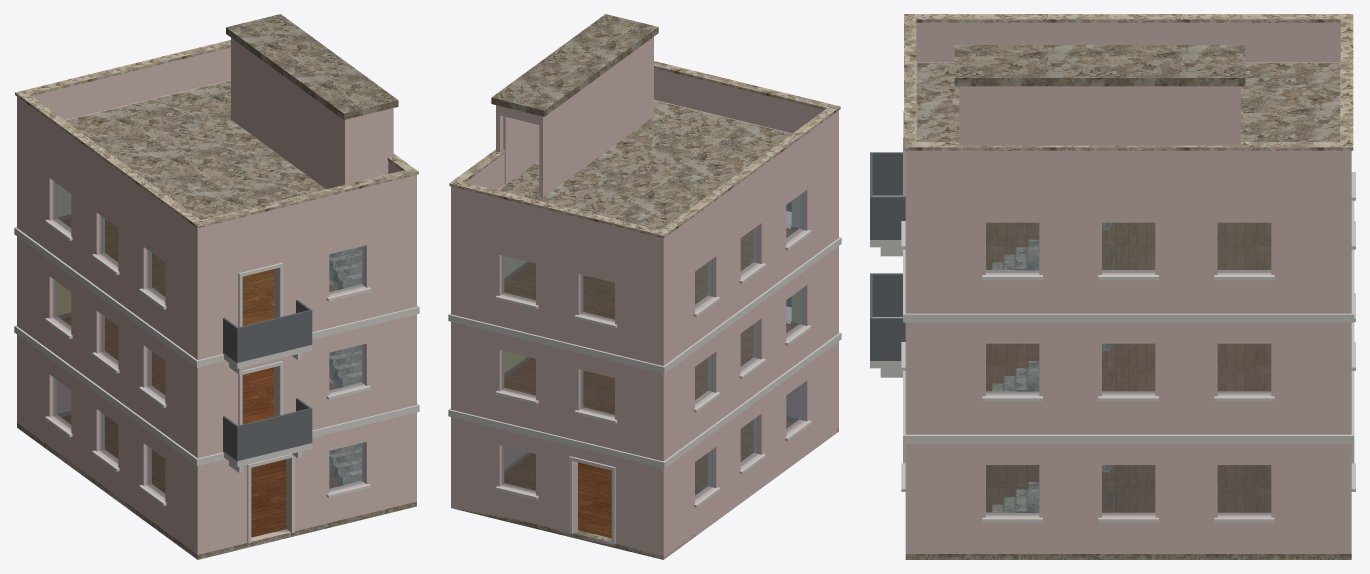
File: bay-townhouse-pink.coast-v1.lod0.glb
3 views of the same model, side by side, from view 1: azimuth 30°, elevation 25°; view 2: azimuth 150°, elevation 25°; view 3: azimuth 270°, elevation 25° (orthographic). The views are drawn at different scales.
Visible parts, largest first — view 1: bay-townhouse-pink; view 2: bay-townhouse-pink; view 3: bay-townhouse-pink.
Part boxes in pixels (x1=…): bay-townhouse-pink: x1=14, y1=14, x2=419, y2=559; bay-townhouse-pink: x1=448, y1=14, x2=841, y2=559; bay-townhouse-pink: x1=870, y1=14, x2=1355, y2=559.
Bounding box in the file's own units: 7.2 × 11.95 × 10.9.
Materials: 4 (2 with a texture image).
